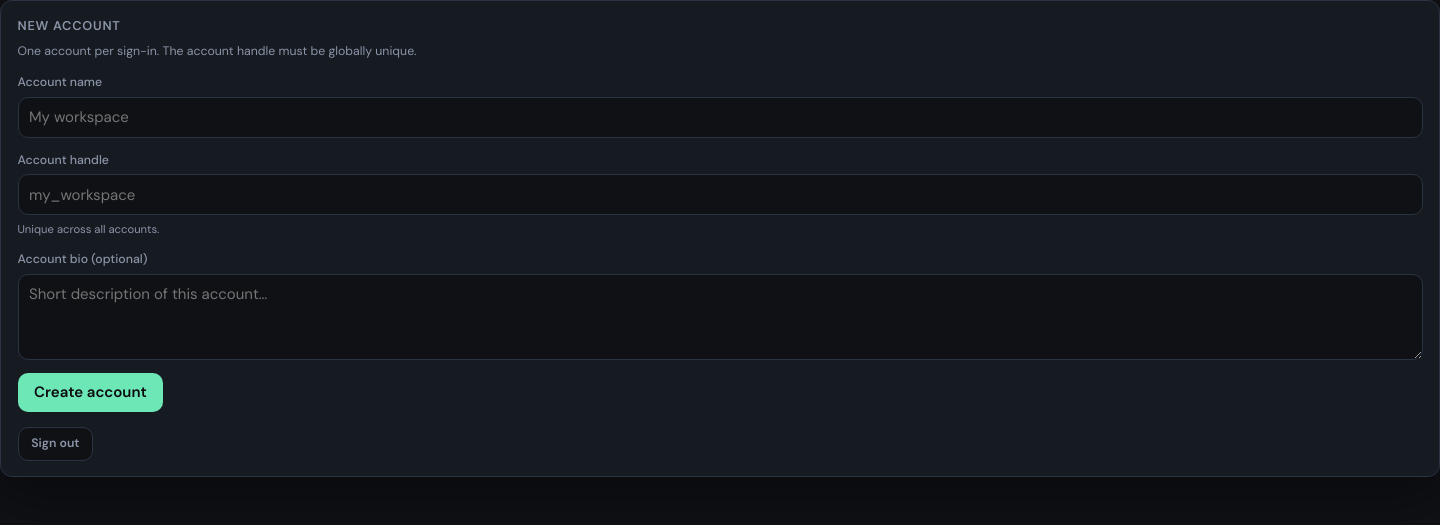
Test case: AccountCreateForm › shows network error when fetch throws
Type "X" into the field labelled "Account name" at x=720, y=117, box x1=18 y1=97 x2=1422 y2=138
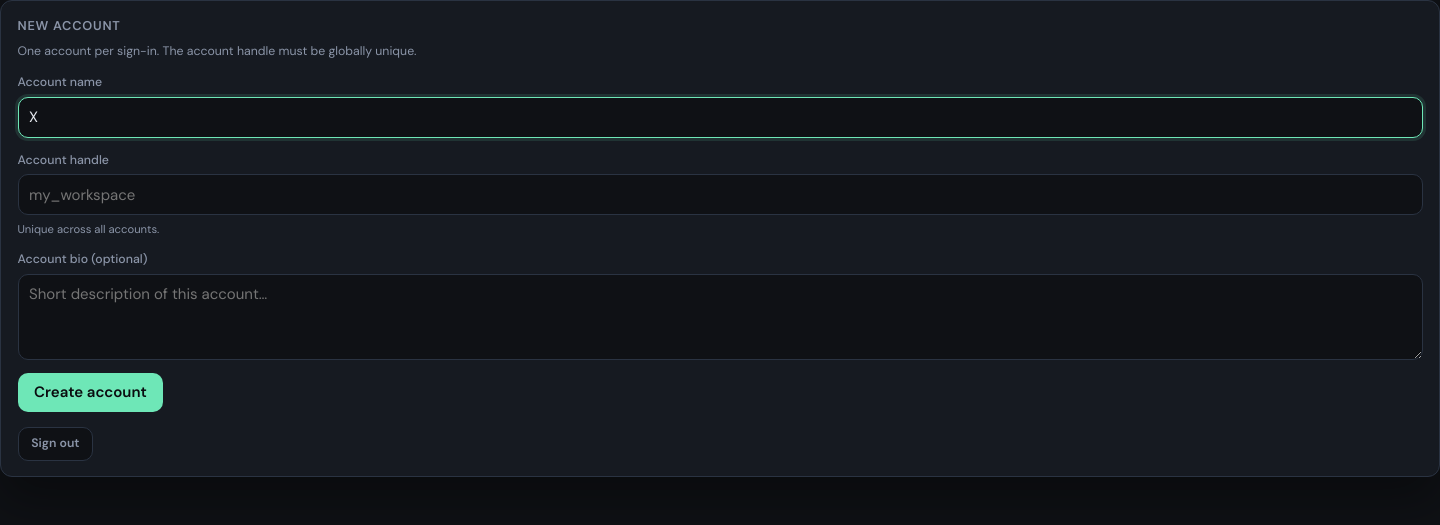
Type "yy" into the field labelled "Account handle Unique across all accounts." at x=720, y=195, box x1=18 y1=174 x2=1422 y2=215
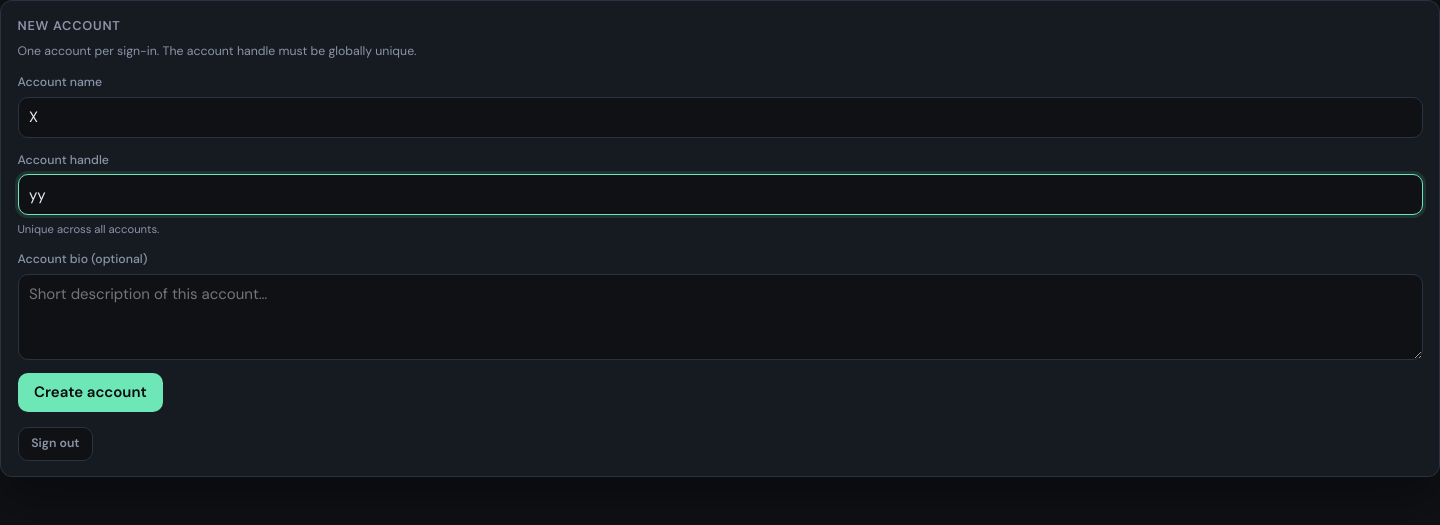
Click the button "Create account" at x=90, y=392, box x1=18 y1=373 x2=163 y2=412
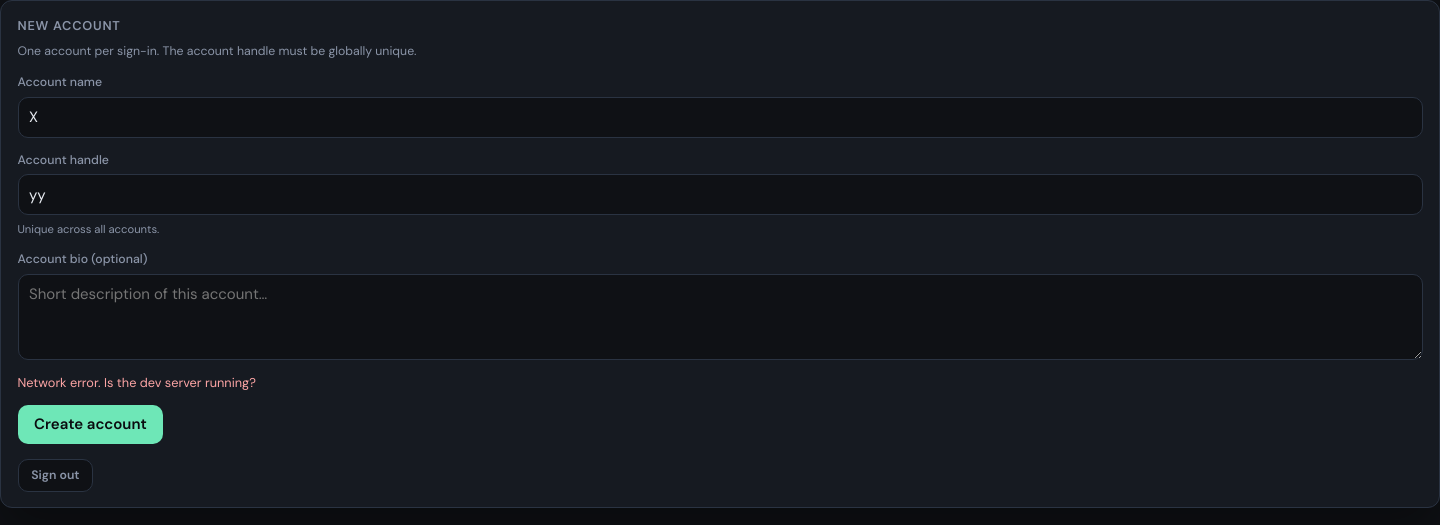
Result: the message shows "Network error" at x1=18 y1=374 x2=256 y2=391
